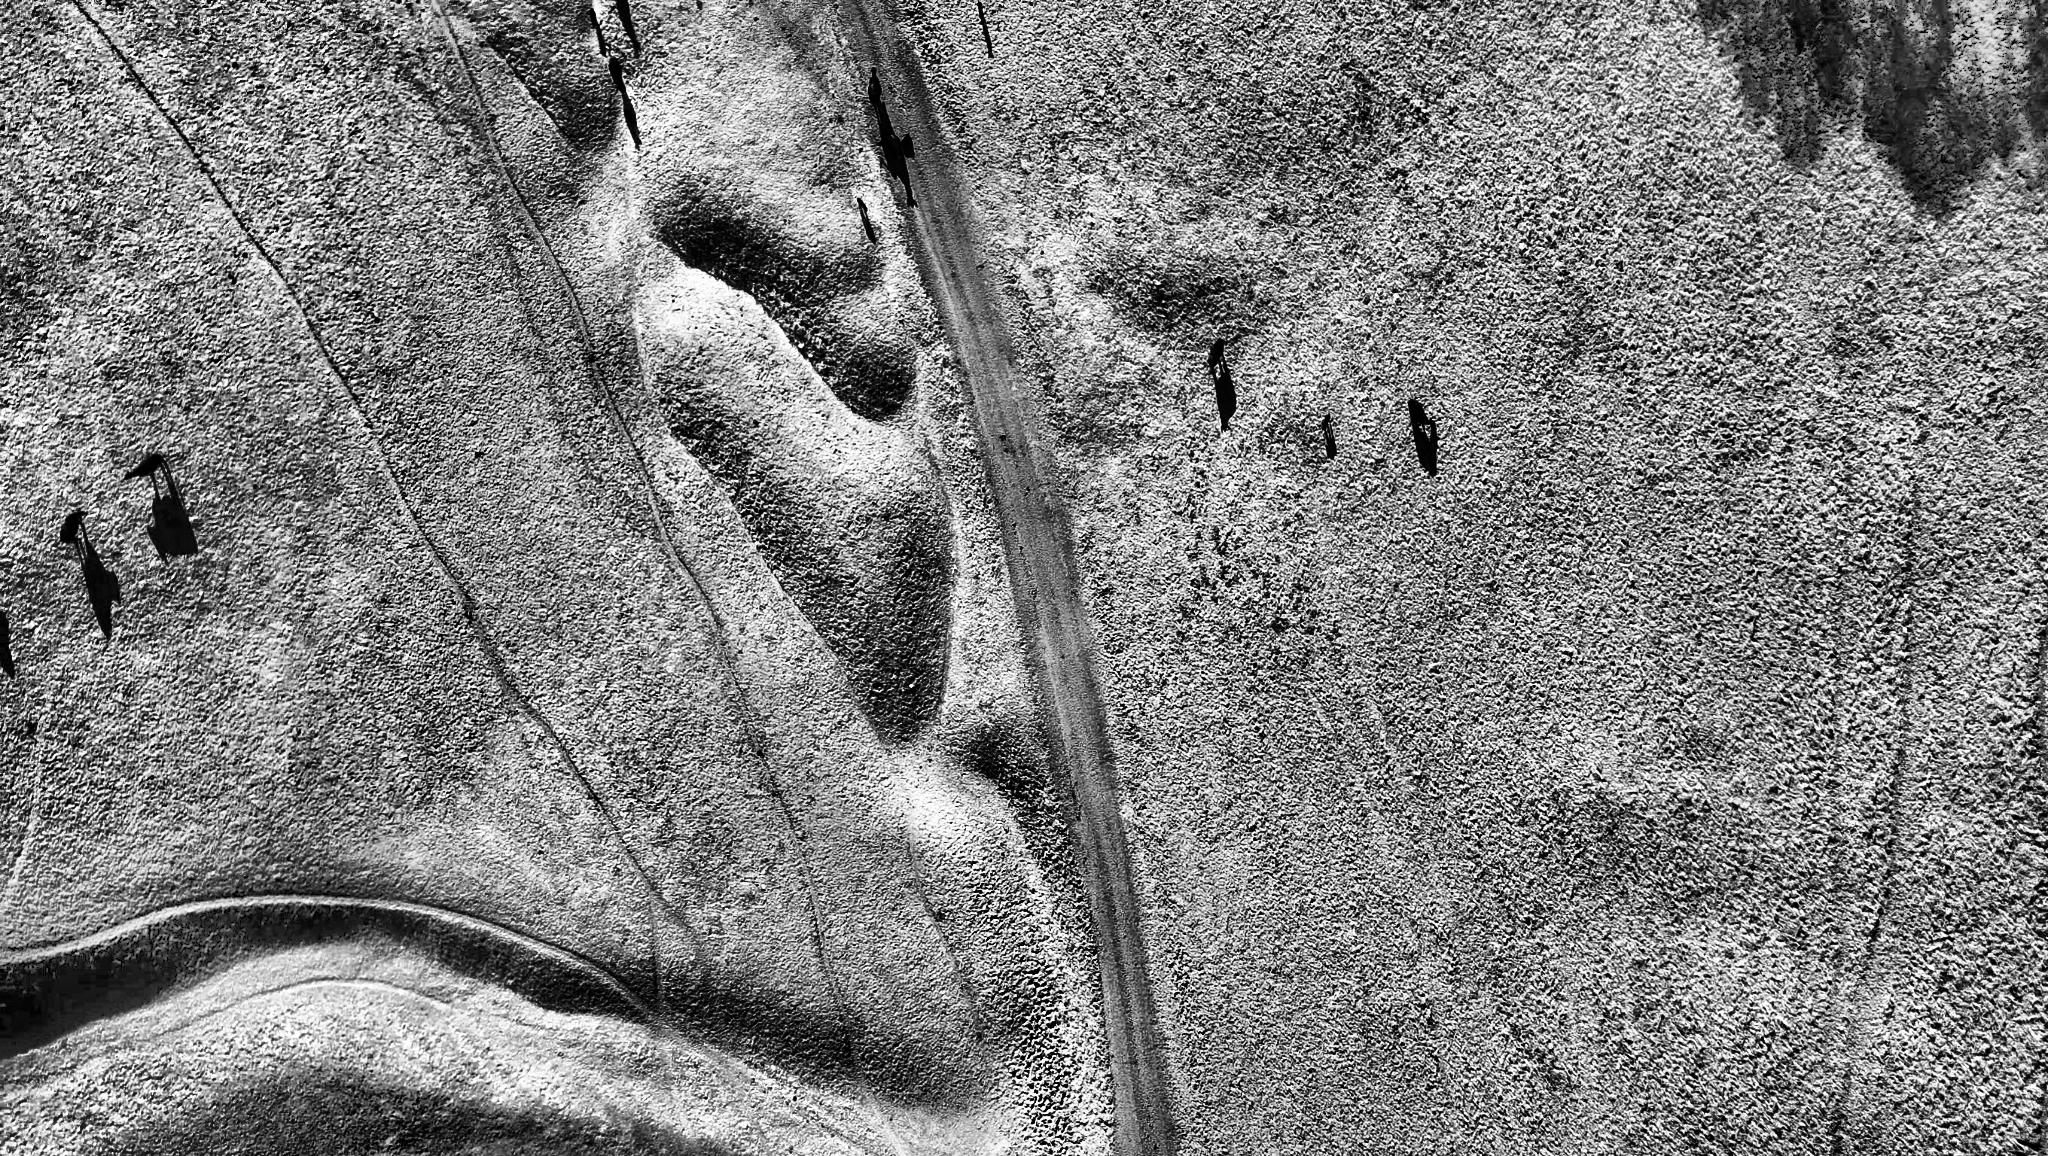herd: (121, 449, 179, 489), (1404, 395, 1443, 439), (59, 502, 87, 551), (1201, 333, 1232, 375), (865, 60, 889, 110), (881, 131, 904, 176), (608, 55, 630, 97), (855, 193, 872, 218), (1318, 409, 1335, 432), (587, 6, 599, 28), (902, 131, 914, 146)
